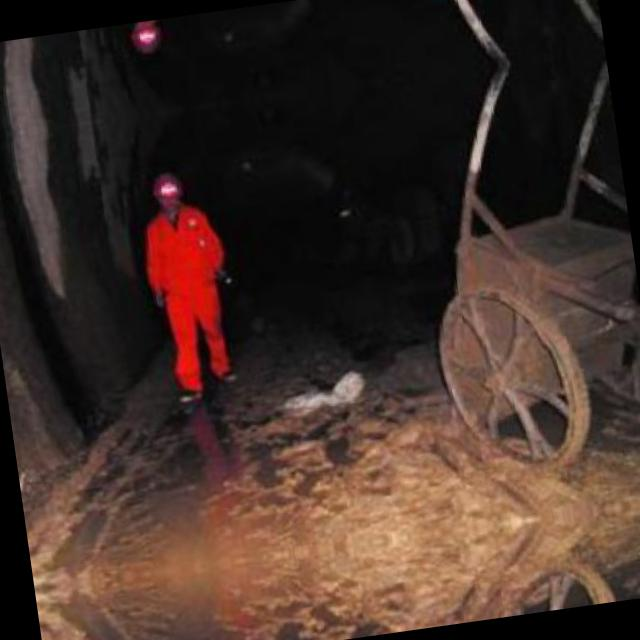helmet: (144, 166, 186, 217), (124, 19, 166, 62)
